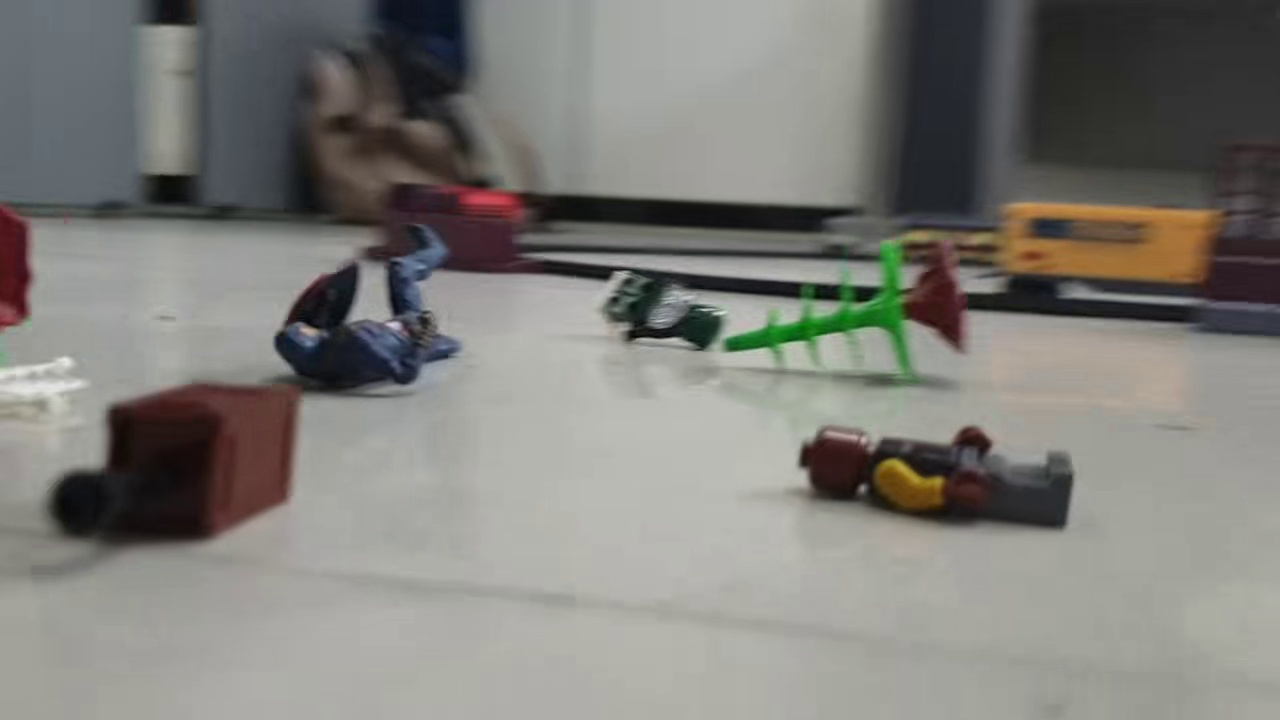box: (44, 376, 301, 545)
people: (791, 416, 1081, 539), (268, 224, 468, 402), (599, 267, 728, 358)
tree: (725, 236, 970, 387)
web: (1, 352, 88, 425)
